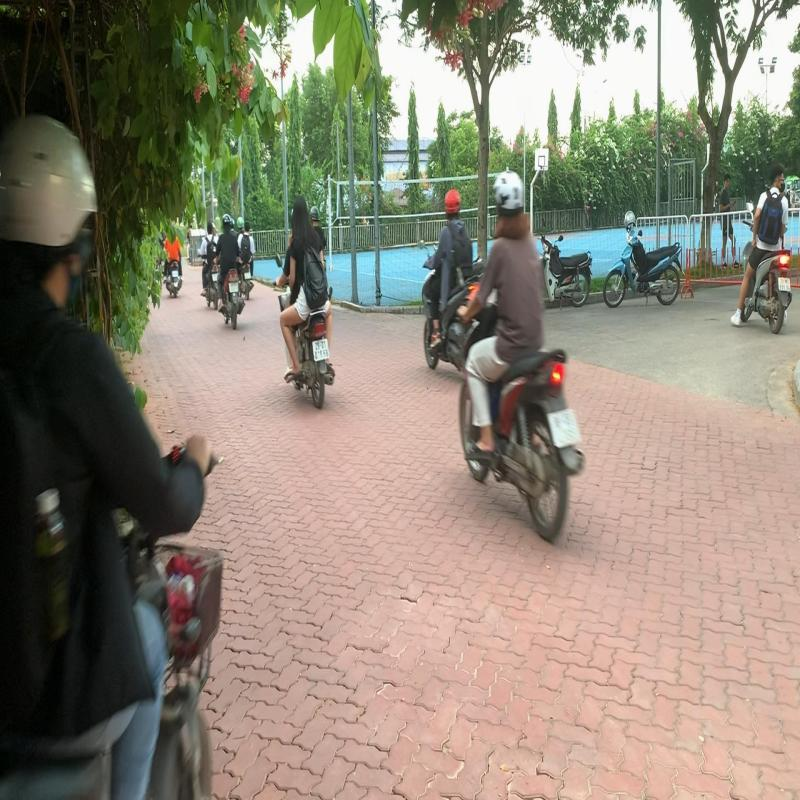nohelmet: (292, 194, 310, 230)
